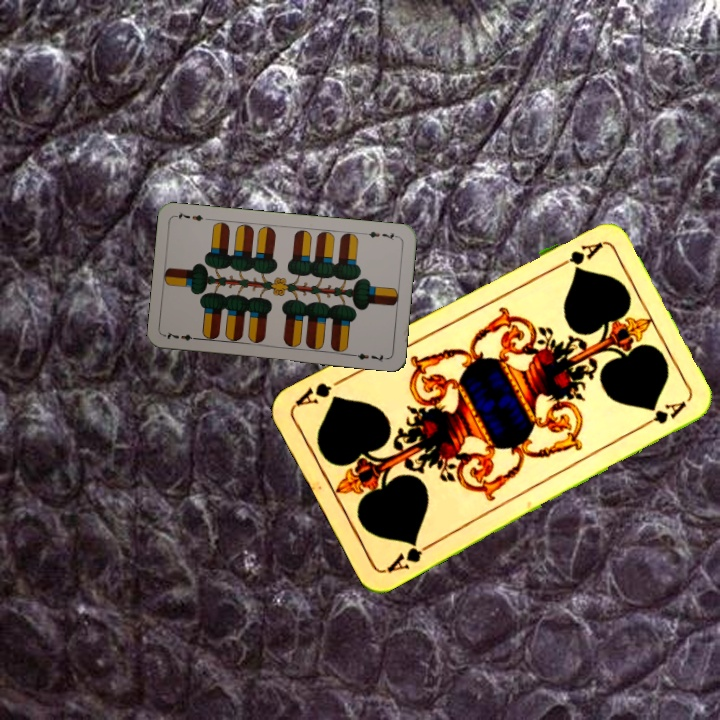E7: (360, 227, 401, 243), (161, 328, 202, 343)
GA: (382, 537, 436, 576), (549, 238, 605, 273)
